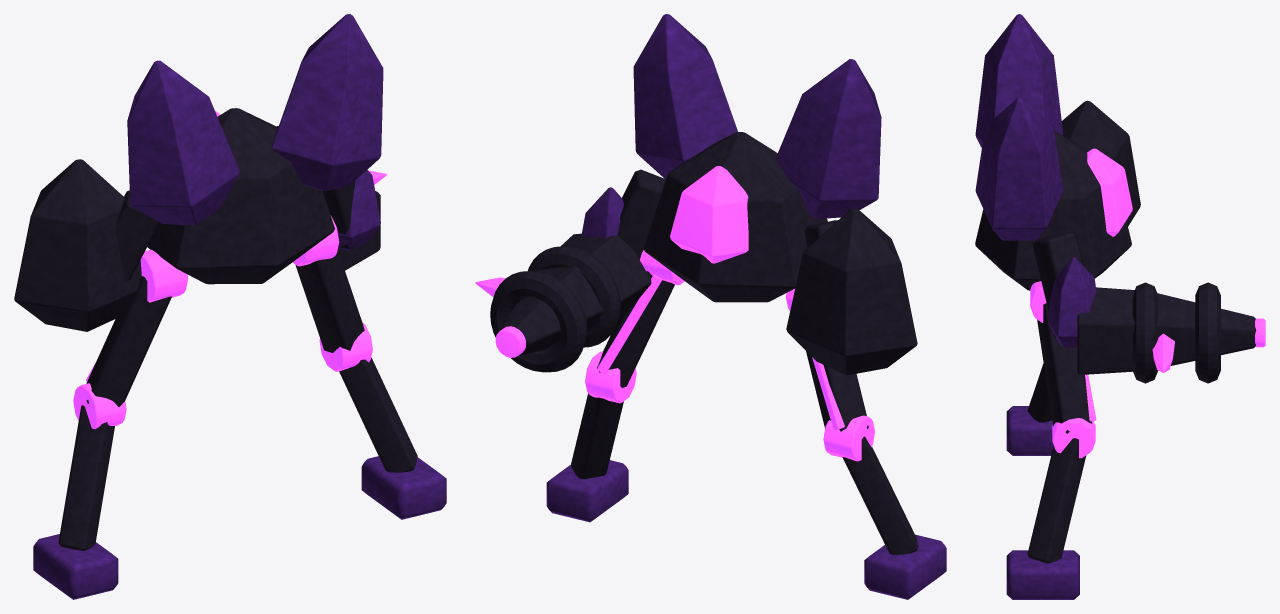
Rendered from conclave_cariatide.gltf.
3 views of the same model, side by side, from view 1: azimuth 30°, elevation 25°; view 2: azimuth 150°, elevation 25°; view 3: azimuth 270°, elevation 25° (orthographic). The views are drawn at different scales.
Parts seen in each view (by area): view 1: Body.005_Geometry, Arm_-1_Geometry, Hip_L0_Geometry, Knee_L0_Geometry, Knee_R0_Geometry, Hip_R0_Geometry, Foot_L0_Geometry, Foot_R0_Geometry, Arm_1_Geometry, GunRecoil.005_Geometry; view 2: Body.005_Geometry, Arm_-1_Geometry, GunRecoil.005_Geometry, Knee_L0_Geometry, Knee_R0_Geometry, Hip_R0_Geometry, Arm_1_Geometry, Foot_L0_Geometry, Foot_R0_Geometry, Hip_L0_Geometry; view 3: Body.005_Geometry, GunRecoil.005_Geometry, Knee_R0_Geometry, Arm_1_Geometry, Hip_R0_Geometry, Foot_R0_Geometry, Arm_-1_Geometry, Foot_L0_Geometry, Knee_L0_Geometry.
Boxes of the visible parts, x1,y1,x2,y2 form: Body.005_Geometry: (127,14,383,284); Arm_-1_Geometry: (14,159,159,331); Hip_L0_Geometry: (86,249,188,406); Knee_L0_Geometry: (58,383,126,550); Knee_R0_Geometry: (319,322,417,472); Hip_R0_Geometry: (292,215,364,352); Foot_L0_Geometry: (33,534,118,599); Foot_R0_Geometry: (361,456,446,519); Arm_1_Geometry: (323,170,380,250); GunRecoil.005_Geometry: (276,126,386,270); Body.005_Geometry: (633,14,881,302); Arm_-1_Geometry: (786,208,917,375); GunRecoil.005_Geometry: (475,233,651,372); Knee_L0_Geometry: (823,415,918,554); Knee_R0_Geometry: (570,351,636,479); Hip_R0_Geometry: (597,250,684,387); Arm_1_Geometry: (581,169,665,259); Foot_L0_Geometry: (864,534,946,599); Foot_R0_Geometry: (546,460,628,522); Hip_L0_Geometry: (786,288,868,431); Body.005_Geometry: (975,14,1132,290); GunRecoil.005_Geometry: (1077,282,1265,383); Knee_R0_Geometry: (1027,418,1095,563); Arm_1_Geometry: (1033,232,1096,347); Hip_R0_Geometry: (1030,281,1096,433); Foot_R0_Geometry: (1006,550,1079,599); Arm_-1_Geometry: (1061,100,1140,226); Foot_L0_Geometry: (1006,406,1053,455); Knee_L0_Geometry: (1027,363,1051,422).
Bounding box in the file's own units: 2.52 × 3 × 1.7.
3 materials, 2 textured.
